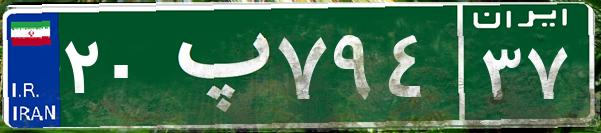0: (110, 28, 158, 105)
2: (57, 26, 110, 107)
3: (475, 38, 525, 113)
4: (385, 28, 445, 110)
7: (273, 28, 330, 110), (525, 38, 570, 115)
9: (330, 28, 385, 110)
پ: (158, 15, 273, 115)
